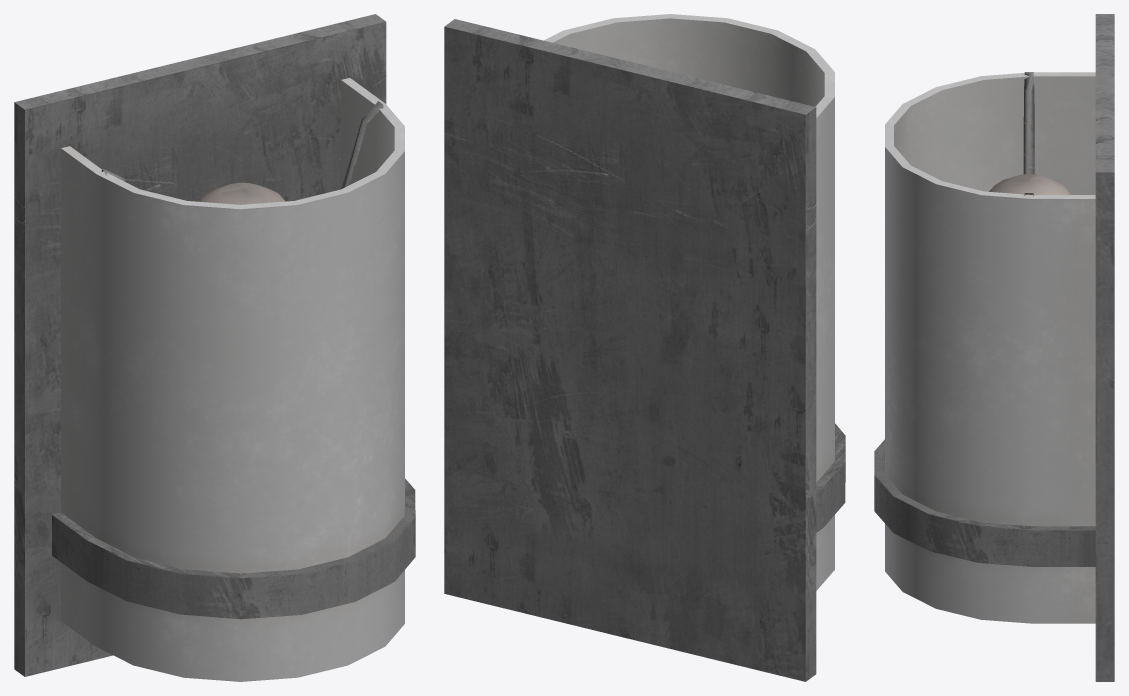
The model's file is WallLight_01.FBX.
The picture shows the model from 3 angles, left to right: view 1: azimuth 30°, elevation 25°; view 2: azimuth 150°, elevation 25°; view 3: azimuth 270°, elevation 25°; orthographic projection. The views are drawn at different scales.
Parts seen in each view (by area): view 1: WallLight_01; view 2: WallLight_01; view 3: WallLight_01.
Boxes of the visible parts, x1,y1,x2,y2 form: WallLight_01: [14, 14, 415, 681]; WallLight_01: [444, 14, 845, 681]; WallLight_01: [874, 14, 1114, 681].
Bounding box in the file's own units: 20 × 30 × 12.81.
